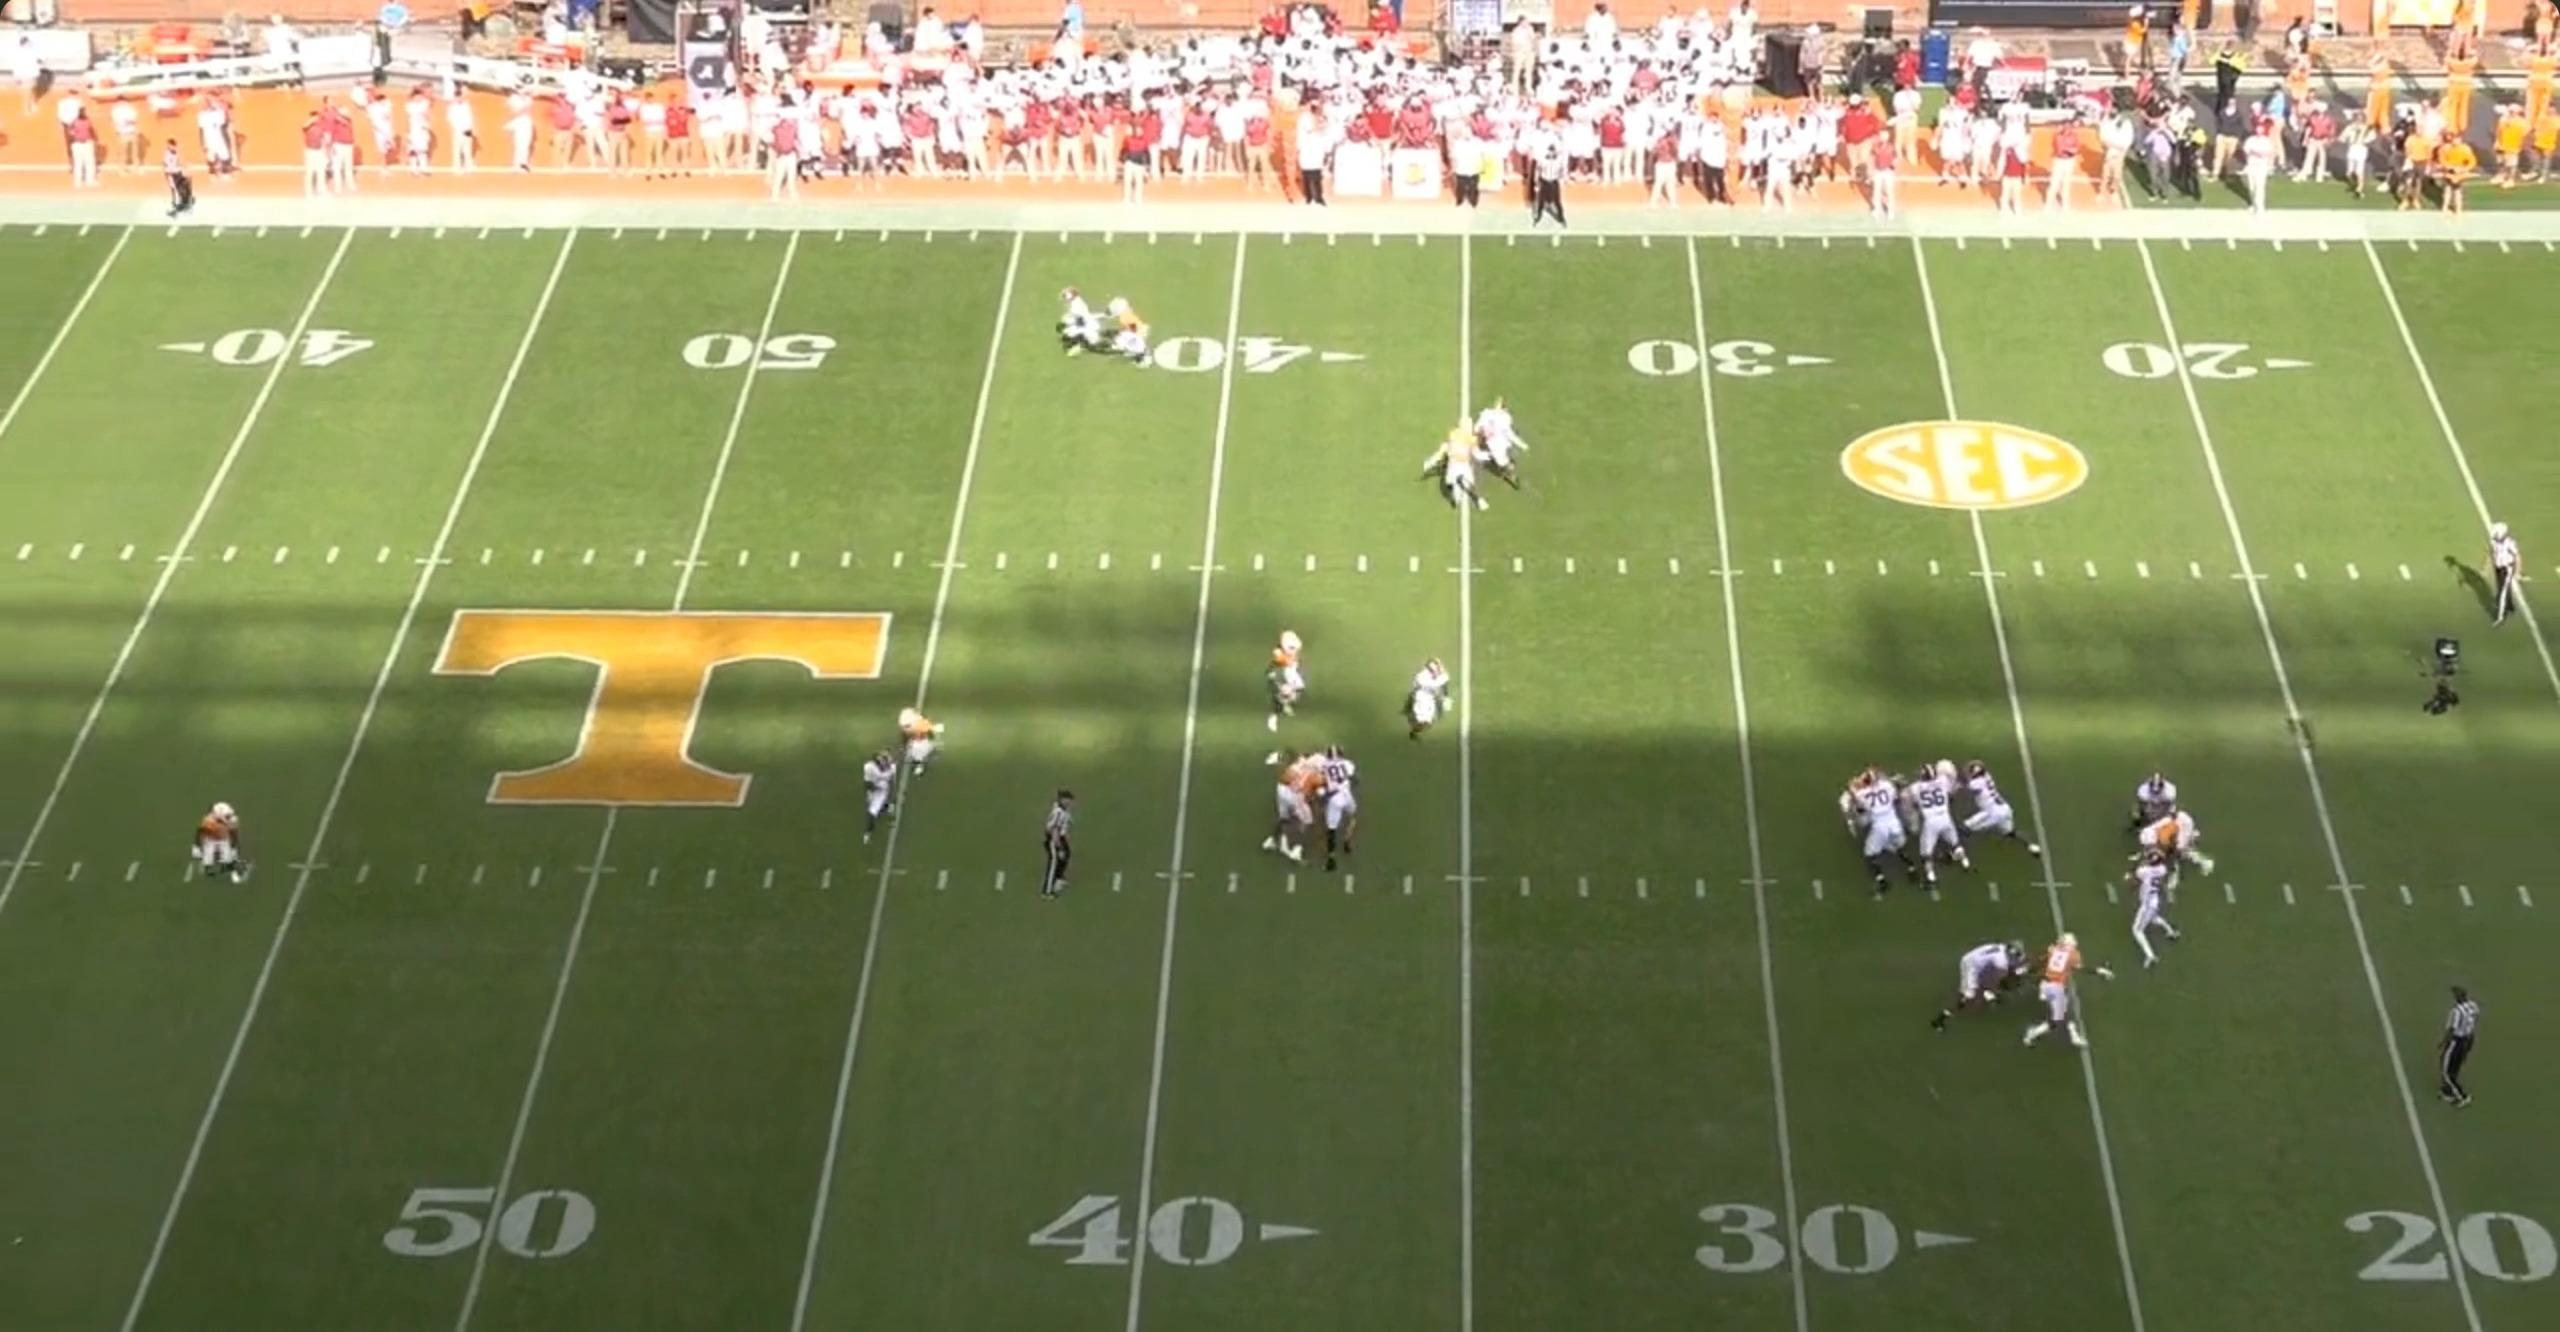player: (2031, 932, 2118, 1058), (1935, 939, 2039, 1040), (1955, 758, 2045, 864), (1850, 766, 1914, 896), (1901, 762, 1968, 886), (2111, 839, 2173, 971), (1264, 750, 1326, 869), (189, 798, 254, 894), (1424, 423, 1493, 513), (1321, 742, 1369, 866), (1463, 397, 1523, 491), (1259, 629, 1309, 739), (1407, 658, 1466, 751), (2132, 815, 2219, 877), (1269, 747, 1316, 857), (892, 701, 947, 792), (1099, 294, 1160, 370), (850, 747, 895, 849), (2112, 775, 2202, 826), (1838, 759, 1904, 826), (1054, 287, 1112, 362), (1930, 755, 1971, 802)
ref: (2431, 978, 2489, 1108), (2479, 521, 2530, 634), (1038, 784, 1085, 905), (1525, 147, 1574, 237), (154, 141, 199, 224)
